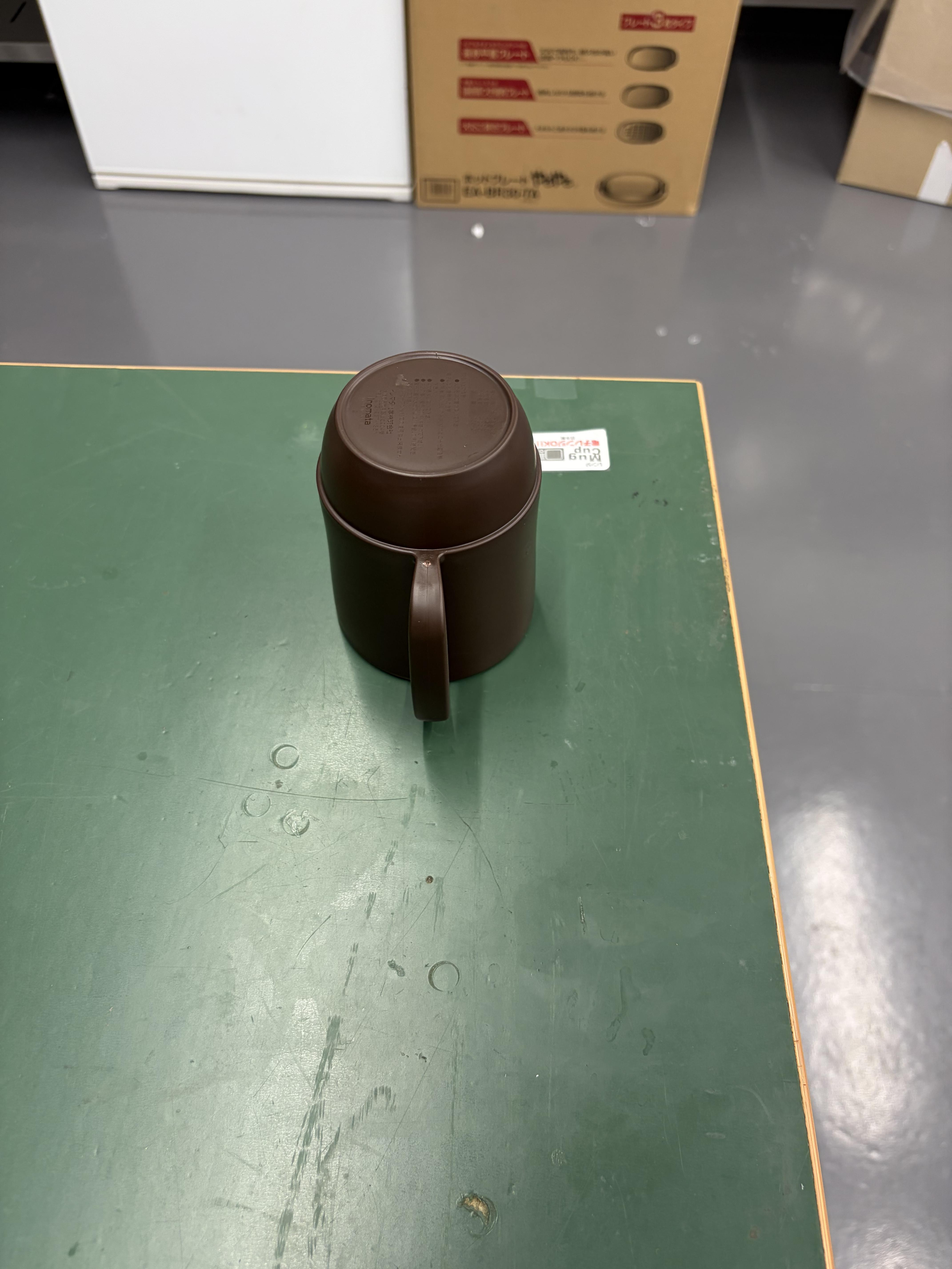mug-real100-3d100: (317, 352, 541, 721)
